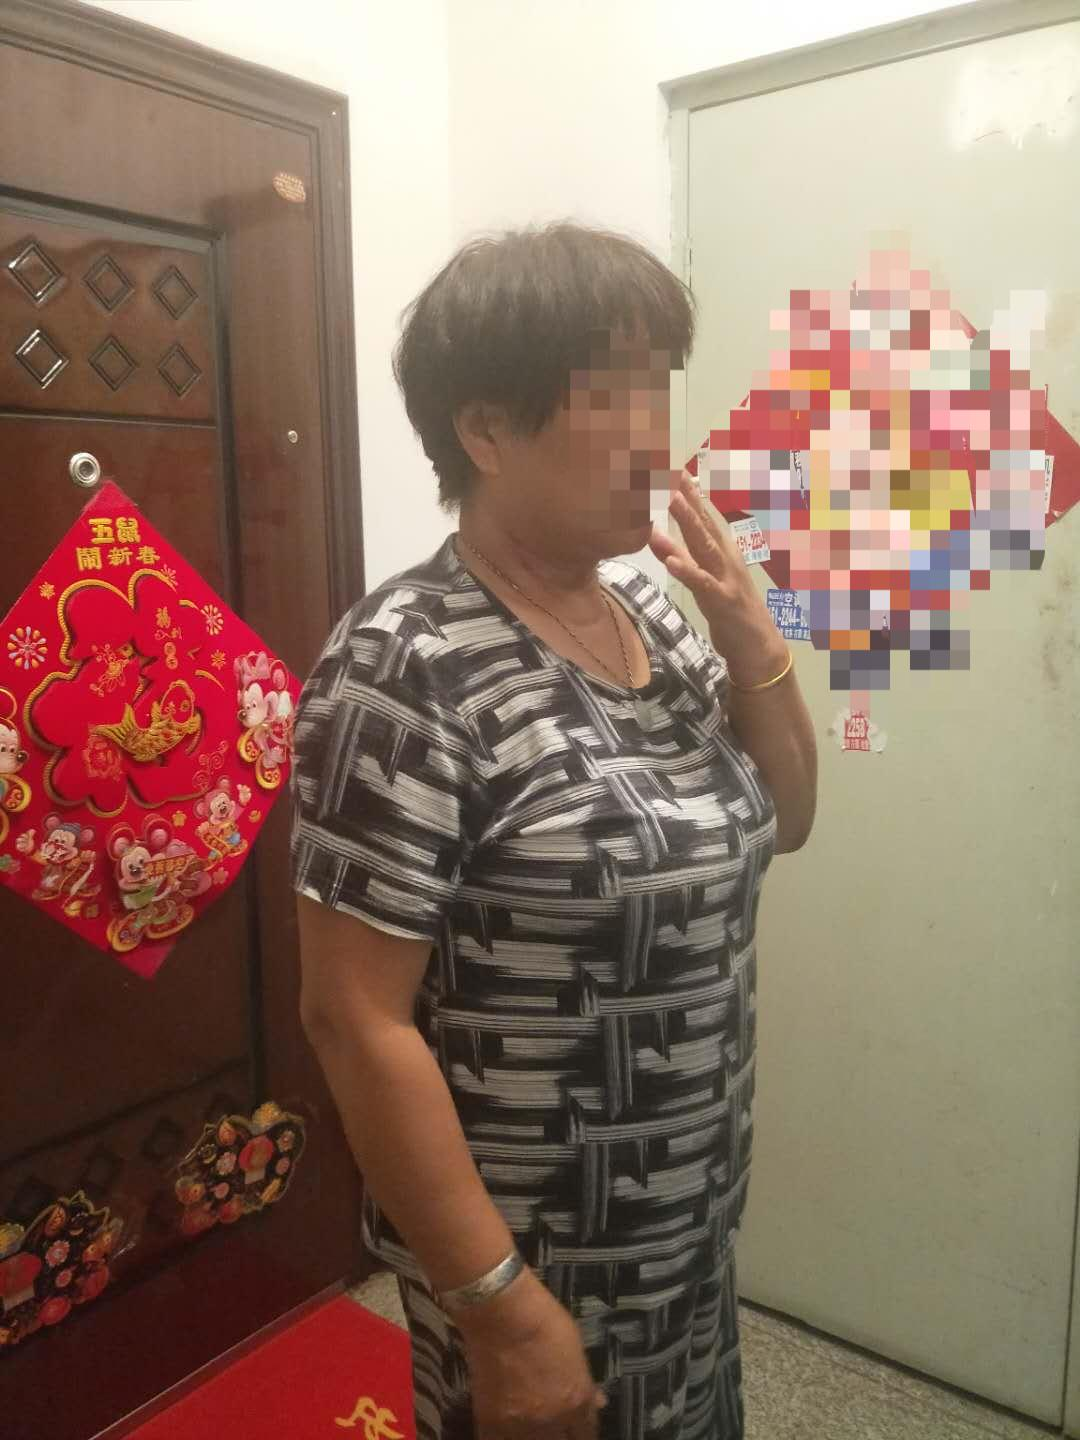noear: (439, 373, 562, 513)
unhalt: (393, 218, 699, 575)
